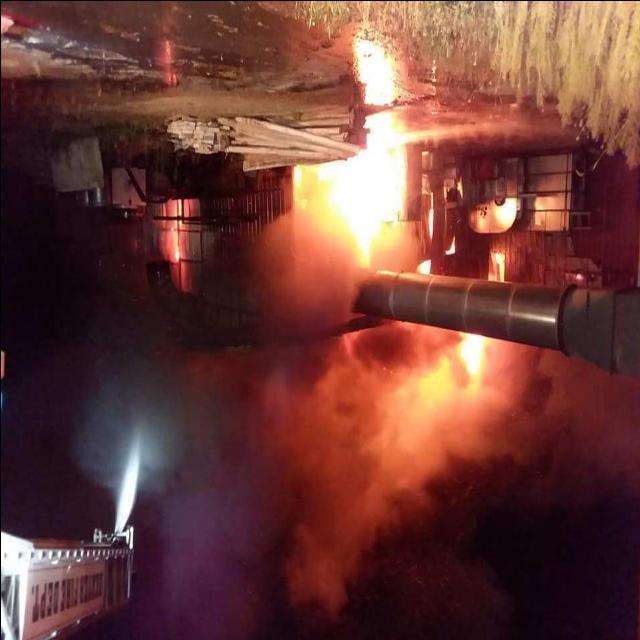Fire: (286, 120, 422, 272), (453, 319, 489, 387)
